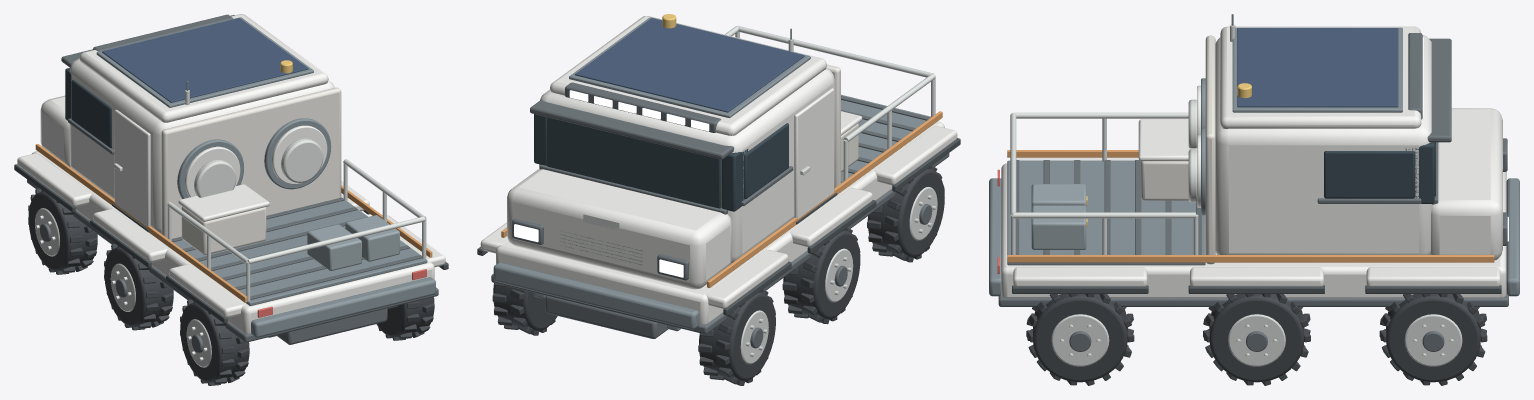
The model's file is crew_rover.glb.
3 views of the same model, side by side, from view 1: azimuth 30°, elevation 25°; view 2: azimuth 150°, elevation 25°; view 3: azimuth 270°, elevation 25° (orthographic). The views are drawn at different scales.
Parts seen in each view (by area): view 1: cab_rear_bulkhead_shell, roof_solar_cells_solar_cell, cargo_floor_dark_alloy, cab_body_white_painted, deck_tub_white_painted, cab_roof_shell, wheel_rl, wheel_fl, wheel_ml, bumper_rear_dark_alloy, door_left_shell, tool_chest_body_warm_shell (+35 smaller); view 2: cab_nose_white_painted, roof_solar_cells_solar_cell, windscreen_dark_glass, cab_body_white_painted, deck_tub_white_painted, wheel_fl, wheel_ml, wheel_rl, bumper_front_dark_alloy, door_left_shell, cab_roof_shell, visor_graphite (+23 smaller); view 3: cab_body_white_painted, roof_solar_cells_solar_cell, cargo_floor_dark_alloy, cab_nose_white_painted, wheel_mr, wheel_rr, wheel_fr, deck_tub_white_painted, cab_roof_shell, side_window_right_dark_glass, stripe_right_orange, deck_kick_graphite (+28 smaller).
Part boxes in pixels (x1,y1,x2,y2): cab_rear_bulkhead_shell: (161, 87, 341, 238); roof_solar_cells_solar_cell: (102, 18, 308, 102); cargo_floor_dark_alloy: (173, 201, 427, 305); cab_body_white_painted: (69, 58, 334, 233); deck_tub_white_painted: (32, 151, 434, 333); cab_roof_shell: (79, 14, 328, 122); wheel_rl: (180, 299, 249, 385); wheel_fl: (28, 188, 97, 274); wheel_ml: (104, 244, 173, 330); bumper_rear_dark_alloy: (251, 277, 435, 337); door_left_shell: (114, 109, 150, 226); tool_chest_body_warm_shell: (181, 206, 266, 255); cab_nose_white_painted: (507, 169, 731, 289); roof_solar_cells_solar_cell: (575, 18, 804, 112); windscreen_dark_glass: (547, 117, 721, 208); cab_body_white_painted: (539, 68, 834, 263); deck_tub_white_painted: (496, 121, 944, 324); wheel_fl: (698, 289, 775, 385); wheel_ml: (782, 227, 860, 324); wheel_rl: (867, 165, 944, 262); bumper_front_dark_alloy: (493, 262, 699, 329); door_left_shell: (794, 88, 834, 218); cab_roof_shell: (550, 16, 826, 135); visor_graphite: (530, 99, 734, 159); cab_body_white_painted: (1215, 35, 1432, 254); roof_solar_cells_solar_cell: (1237, 28, 1398, 107); cargo_floor_dark_alloy: (1007, 160, 1205, 265); cab_nose_white_painted: (1430, 108, 1502, 260); wheel_mr: (1203, 294, 1310, 385); wheel_rr: (1026, 294, 1134, 385); wheel_fr: (1379, 294, 1487, 385); deck_tub_white_painted: (1001, 163, 1506, 297); cab_roof_shell: (1220, 26, 1421, 128); side_window_right_dark_glass: (1324, 151, 1415, 198); stripe_right_orange: (1007, 255, 1494, 262); deck_kick_graphite: (998, 294, 1508, 306).
Size of the model in its own units: 2.48 by 2.55 by 4.36.
